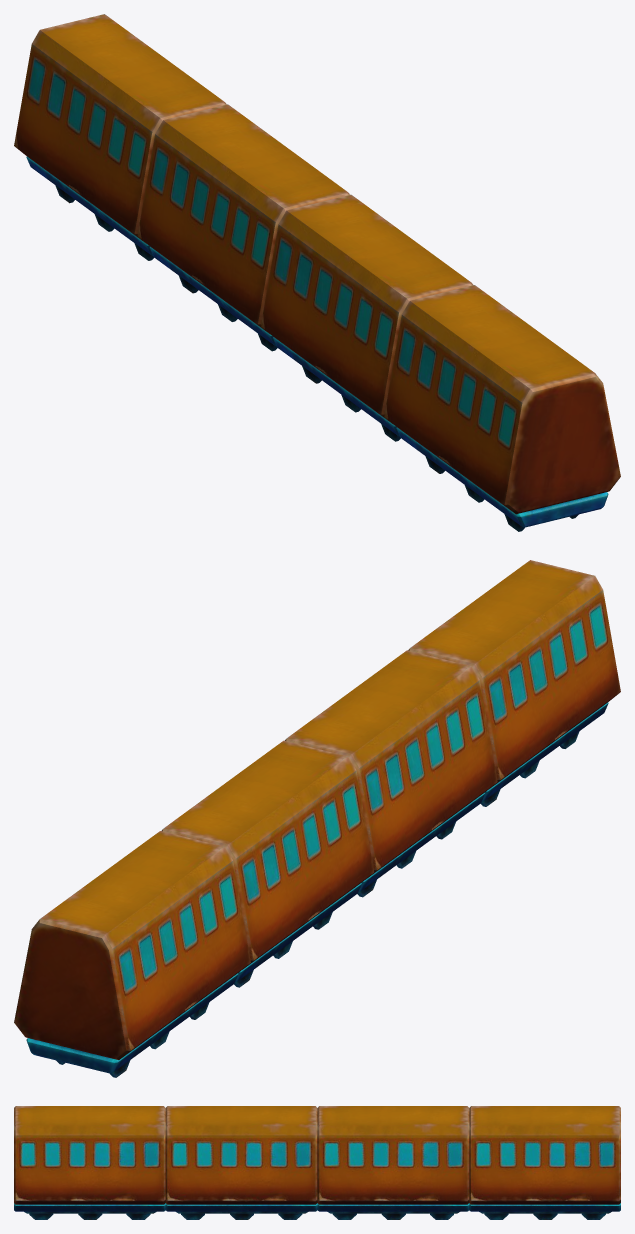
File: train.glb
The picture shows the model from 3 angles, top to bottom: view 1: azimuth 30°, elevation 25°; view 2: azimuth 150°, elevation 25°; view 3: azimuth 270°, elevation 25°; orthographic projection. The views are drawn at different scales.
Visible parts, largest first — view 1: GEN_train; view 2: GEN_train; view 3: GEN_train.
Boxes of the visible parts, <box> form: GEN_train: <box>14,14,620,531</box>; GEN_train: <box>14,560,620,1077</box>; GEN_train: <box>14,1106,620,1219</box>.
Bounding box in the file's own units: 1.91 × 2.43 × 14.
1 material, 1 textured.
